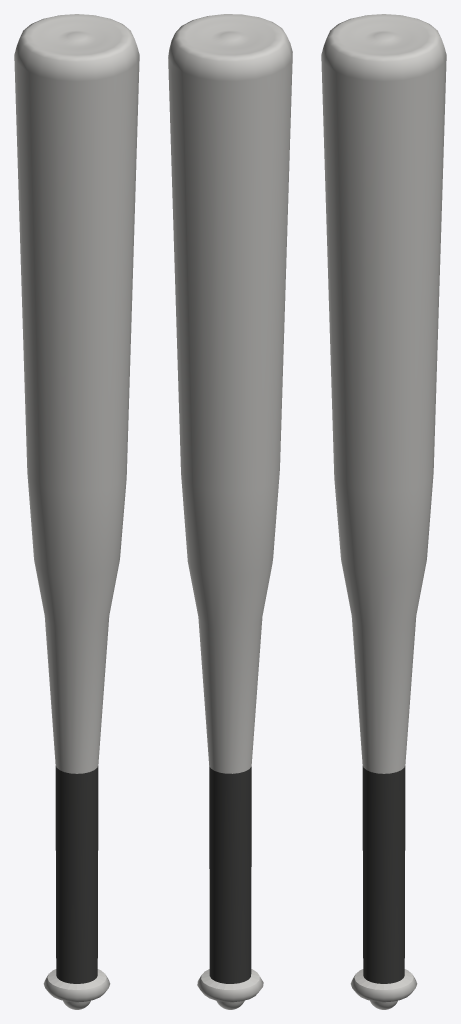
File: Bate (con FBX).fbx
3 renders of one model, left to right at view 1: azimuth 90°, elevation 25°; view 2: azimuth 150°, elevation 25°; view 3: azimuth 270°, elevation 25°, orthographic.
Visible parts, largest first — view 1: pSphere1; view 2: pSphere1; view 3: pSphere1.
Boxes of the visible parts, x1,y1,x2,y2 form: pSphere1: (14, 14, 139, 1009); pSphere1: (168, 14, 292, 1009); pSphere1: (321, 14, 446, 1009).
Size of the model in its own units: 0.257 by 2.2 by 0.257.
1 material, 1 textured.
